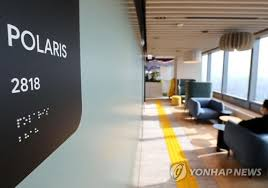guide_blocks: (166, 135, 187, 160), (158, 102, 171, 133)
